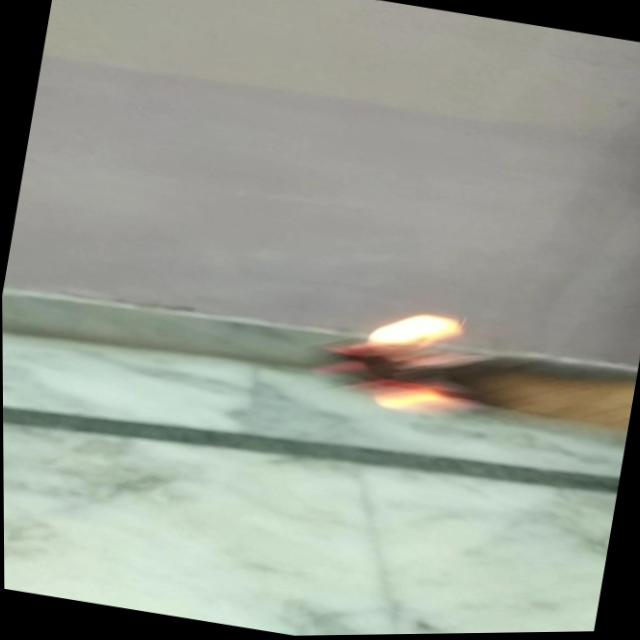fire: (328, 297, 493, 429)
